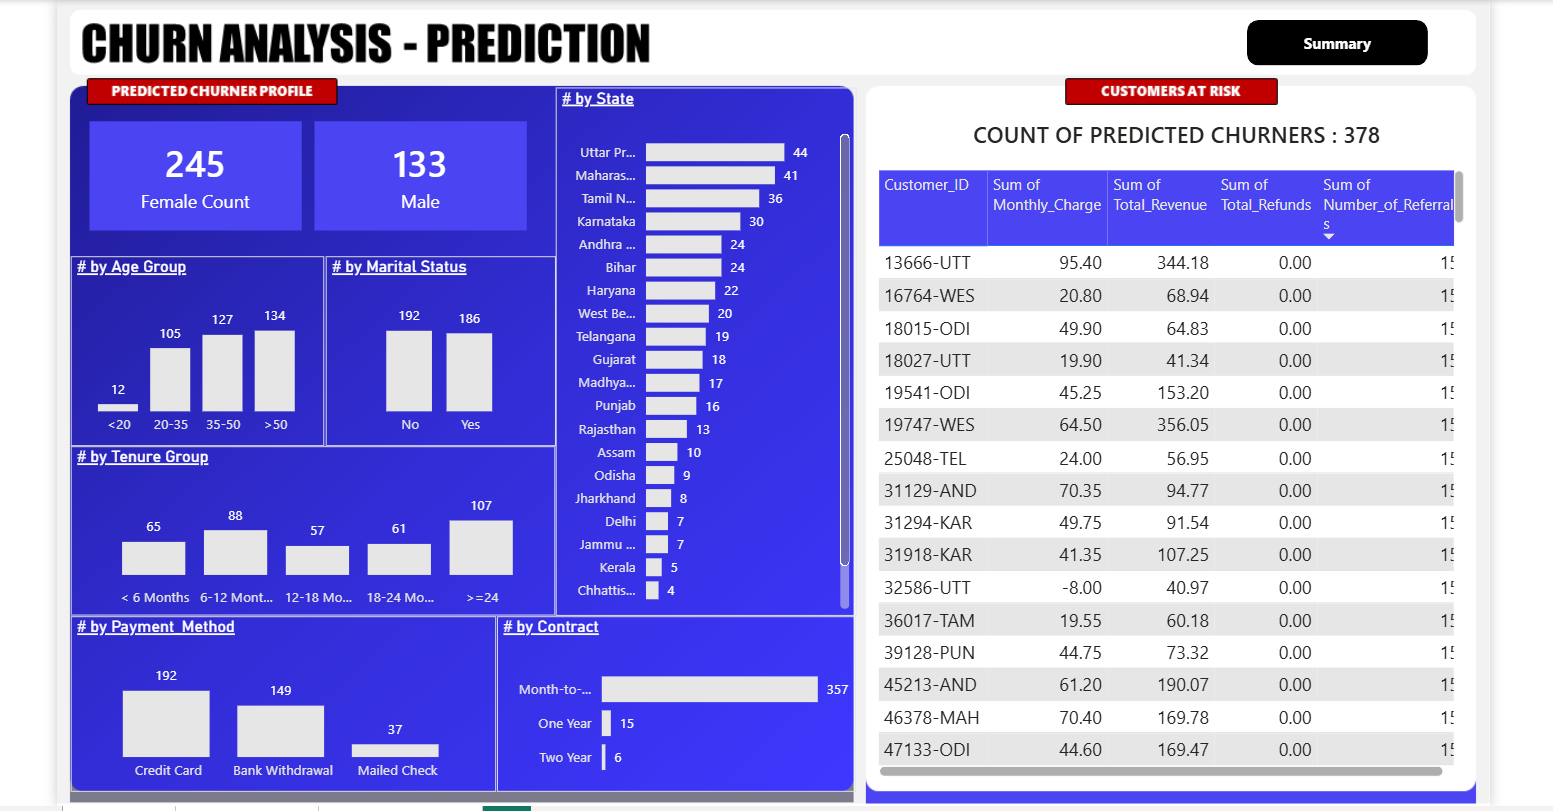

This screenshot's page, from the dashboard's own definition file:
{"tool":"powerbi","page":{"name":"churn prediction","canvas":[1280,720],"ordinal":2},"visuals":[{"type":"tableEx","fields":{"Values":["Predictions.Customer_ID","Predictions.Sum of Monthly_Charge","Predictions.Sum of Total_Revenue","Predictions.Sum of Total_Refunds","Predictions.Sum of Number_of_Referrals"]},"box":[727.9,147.7,533.7,551.2],"z":0},{"type":"cardVisual","fields":{"Data":["tbl_Measures.Title prediction churner"]},"box":[789.5,89.5,434.9,58.1],"z":1},{"type":"cardVisual","fields":{"Data":["tbl_Measures.Male Count"]},"box":[230.2,108.1,189.5,97.7],"z":4},{"type":"clusteredColumnChart","fields":{"Category":["mapping_AgeGrp.Age Group"],"Y":["CountNonNull(Predictions.Customer_ID)"]},"box":[12.8,229.1,226.7,169.8],"z":5},{"type":"clusteredColumnChart","fields":{"Category":["Predictions.Married"],"Y":["CountNonNull(Predictions.Customer_ID)"]},"box":[239.5,229.1,205.8,169.8],"z":6},{"type":"clusteredColumnChart","fields":{"Y":["CountNonNull(Predictions.Customer_ID)"],"Category":["mapping_TenureGrp.Tenure Group"]},"box":[12.8,398.8,432.6,151.2],"z":7},{"type":"clusteredColumnChart","fields":{"Y":["CountNonNull(Predictions.Customer_ID)"],"Category":["Predictions.Payment_Method"]},"box":[12.8,550,380.2,157],"z":8},{"type":"clusteredBarChart","fields":{"Category":["Predictions.Contract"],"Y":["CountNonNull(Predictions.Customer_ID)"]},"box":[393,550,320.9,157],"z":9},{"type":"clusteredBarChart","fields":{"Y":["CountNonNull(Predictions.Customer_ID)"],"Category":["Predictions.State"]},"box":[445.4,77.9,268.6,472.1],"z":10},{"type":"cardVisual","fields":{"Data":["tbl_Measures.Female Count"]},"box":[29.1,108.1,189.5,97.7],"z":11},{"type":"shape","box":[1062.8,17.4,161.6,40.7],"z":12}]}

Visuals, with their boxes on the page's 1280x720 design canvas (x1, y1, x2, y2). These are canvas units, not pixel positions in the 1553x811 screenshot, which may show the page scaled, cropped or inside an application window:
tableEx - Predictions.Customer_ID x Predictions.Sum of Monthly_Charge: <bbox>728, 148, 1262, 699</bbox>
cardVisual - tbl_Measures.Title prediction churner: <bbox>790, 90, 1224, 148</bbox>
cardVisual - tbl_Measures.Male Count: <bbox>230, 108, 420, 206</bbox>
clusteredColumnChart - mapping_AgeGrp.Age Group x CountNonNull(Predictions.Customer_ID): <bbox>13, 229, 240, 399</bbox>
clusteredColumnChart - Predictions.Married x CountNonNull(Predictions.Customer_ID): <bbox>240, 229, 445, 399</bbox>
clusteredColumnChart - CountNonNull(Predictions.Customer_ID) x mapping_TenureGrp.Tenure Group: <bbox>13, 399, 445, 550</bbox>
clusteredColumnChart - CountNonNull(Predictions.Customer_ID) x Predictions.Payment_Method: <bbox>13, 550, 393, 707</bbox>
clusteredBarChart - Predictions.Contract x CountNonNull(Predictions.Customer_ID): <bbox>393, 550, 714, 707</bbox>
clusteredBarChart - CountNonNull(Predictions.Customer_ID) x Predictions.State: <bbox>445, 78, 714, 550</bbox>
cardVisual - tbl_Measures.Female Count: <bbox>29, 108, 219, 206</bbox>
shape: <bbox>1063, 17, 1224, 58</bbox>
